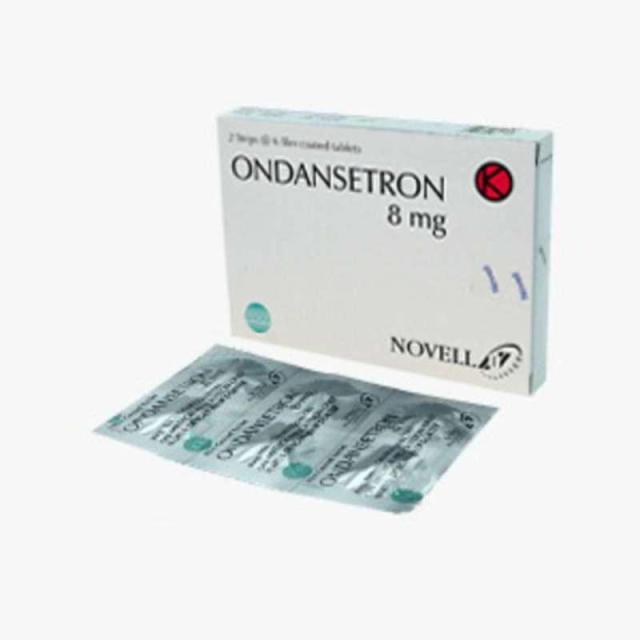drug-name: (230, 146, 454, 208)
